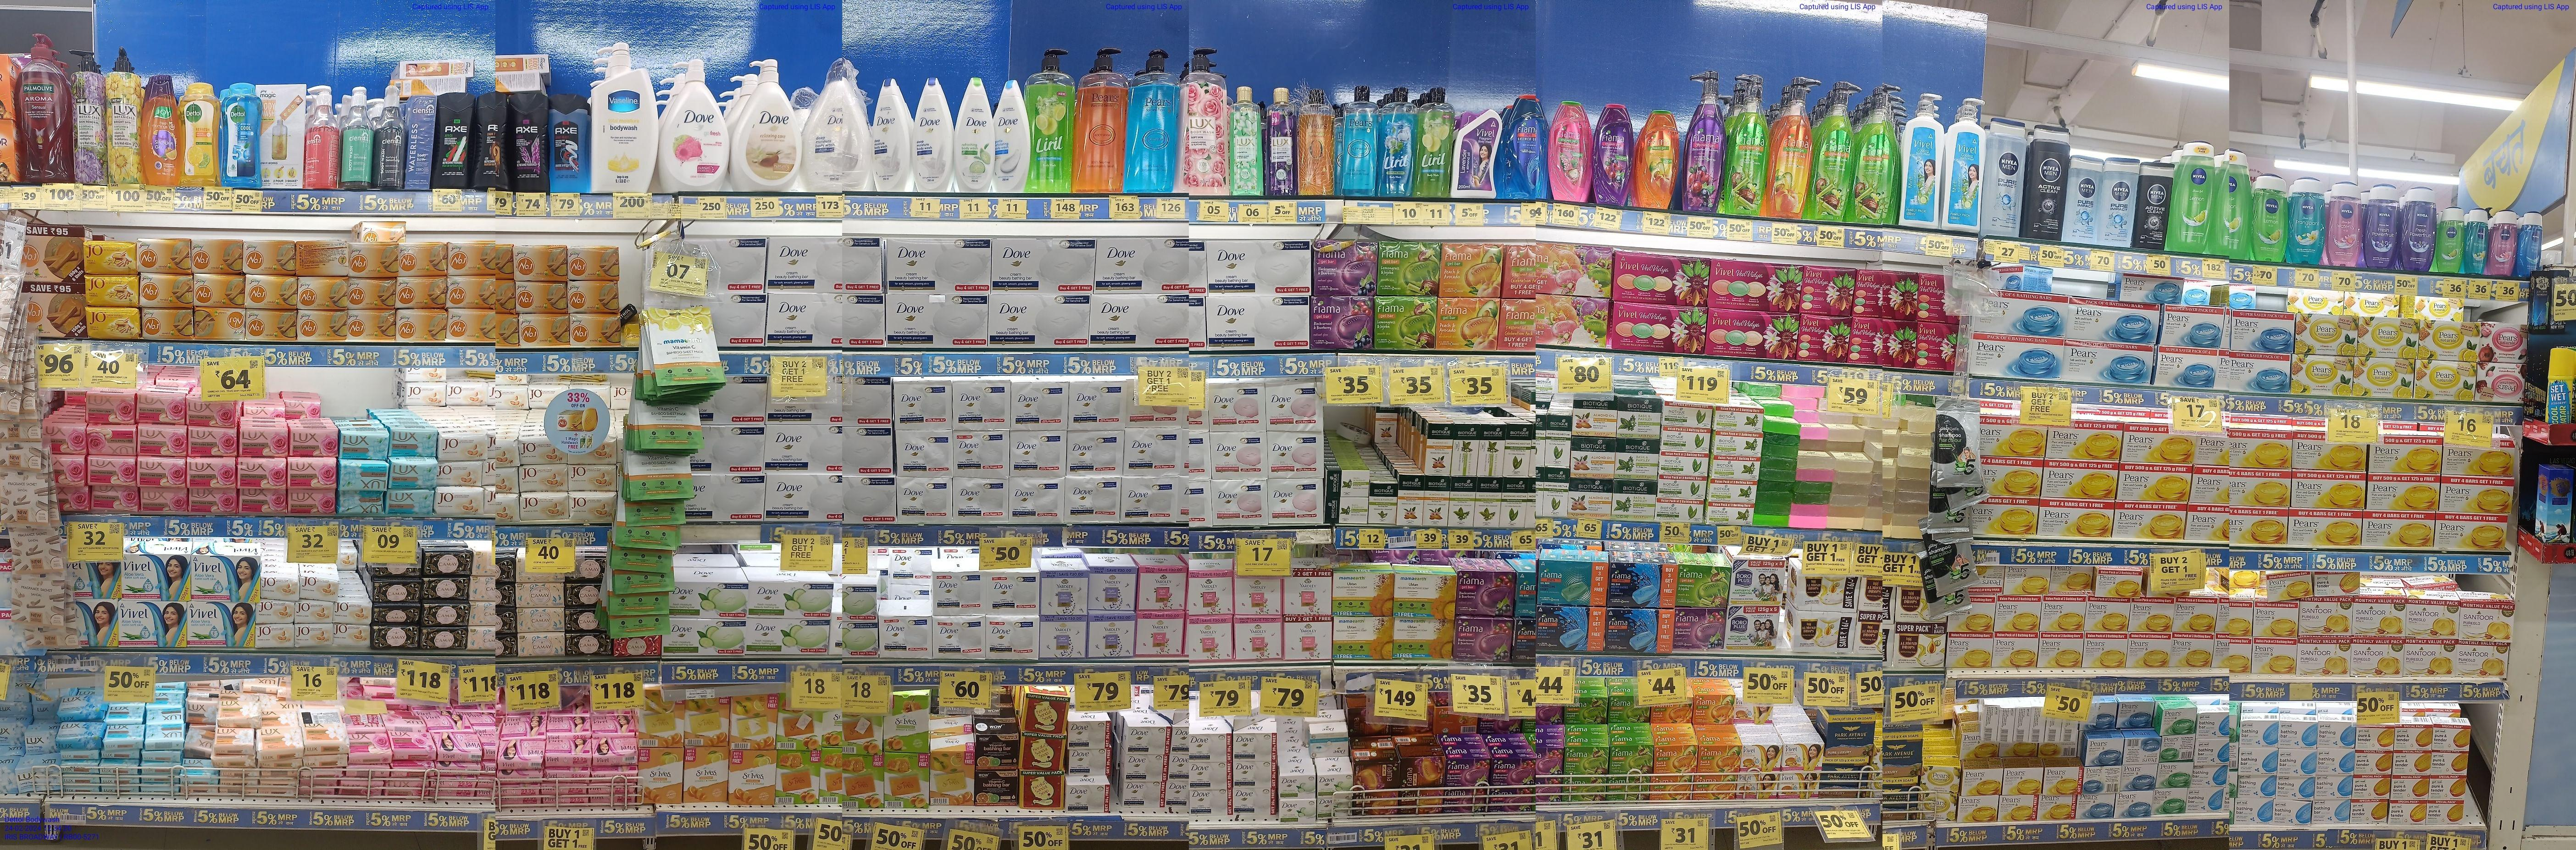Dettol_Bodywash_Cool: (223, 84, 263, 187)
Dettol_Bodywash_Refresh: (186, 82, 220, 187)
Dove_Deep_Moisture_Body_Wash_250ML: (872, 77, 913, 192), (915, 79, 955, 192)
Dove_Gentle_Exfoliating_Body_Wash_250ML: (999, 76, 1030, 194)
Dove_Refreshing_Body_Wash_250ML: (956, 76, 994, 194)
Fiama_Shower_Gel_Patchouli_and_Macadamia_250ML: (1549, 99, 1592, 202)
Fiama_Shower_Gel_Peach_and_Avocado_250ML: (1638, 107, 1674, 206)
Joy_Shower_Gel_Mandarin_and_Lemongrass_250ML: (143, 67, 182, 182)
Liril_Cooling_Mint_Body_Wash_250ML: (1382, 85, 1414, 199)
Liril_Lime_and_Tea_Tree_Oil_Body_Wash_250ML: (1418, 85, 1449, 199)
Lux_Black_Orchid_Scent_and_Juniper_Oil_Body_Wash_245ML: (1265, 85, 1298, 196)
Lux_Body_Wash_Skin_Detox_Freesia_Scent_and_Alove_Vera_245ML: (1227, 81, 1263, 197)
Nivea_Shower_Gel_Frangipani_and_Oil_250ML: (2292, 174, 2326, 265)
Nivea_Shower_Gel_Fresh_Powerfruit_250ML: (2367, 181, 2400, 270), (2403, 187, 2435, 275)
Nivea_Shower_Gel_Lemon_and_Oil_250ML: (2170, 140, 2216, 252), (2252, 169, 2287, 263)
Nivea_Shower_Gel_Waterlily_and_Oil_250ML: (2328, 182, 2361, 268)
Pears_Pure_Glycerin_and_Mint_Extracts_Body_Wash_250ML: (1341, 84, 1377, 196)
